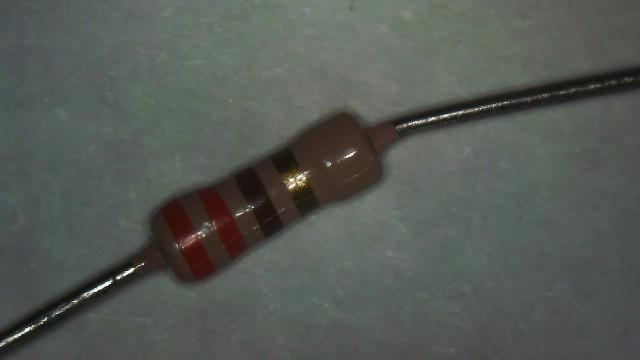brown: (236, 167, 283, 236)
gold: (270, 148, 316, 214)
orange: (199, 187, 246, 258), (167, 211, 209, 265)
resistor: (109, 82, 418, 312)
